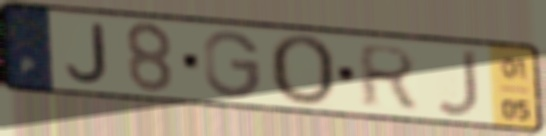8: (124, 20, 175, 96)
G: (201, 29, 263, 101)
J: (432, 48, 483, 120), (63, 22, 112, 87)
O: (266, 32, 339, 110)
R: (357, 42, 421, 111)
